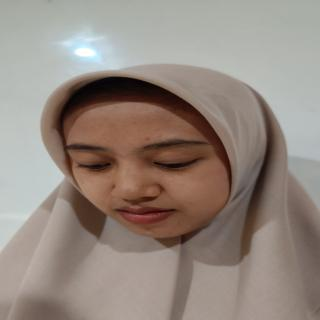Sedih: (48, 82, 242, 247)
